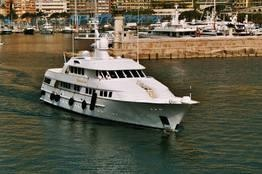yacht: (41, 22, 203, 136)
